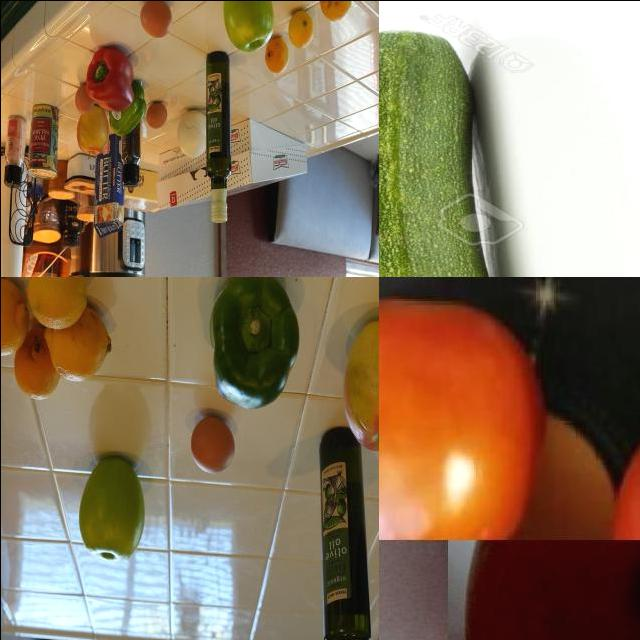bell_pepper: (200, 277, 314, 416), (88, 45, 134, 108), (121, 109, 143, 187), (111, 87, 143, 135)
egg: (186, 409, 240, 481), (139, 1, 173, 52), (146, 100, 168, 129), (74, 87, 93, 115)
onion: (176, 108, 213, 154)
tomato: (379, 277, 540, 540), (604, 344, 640, 540)
zucchini: (379, 33, 587, 277)
